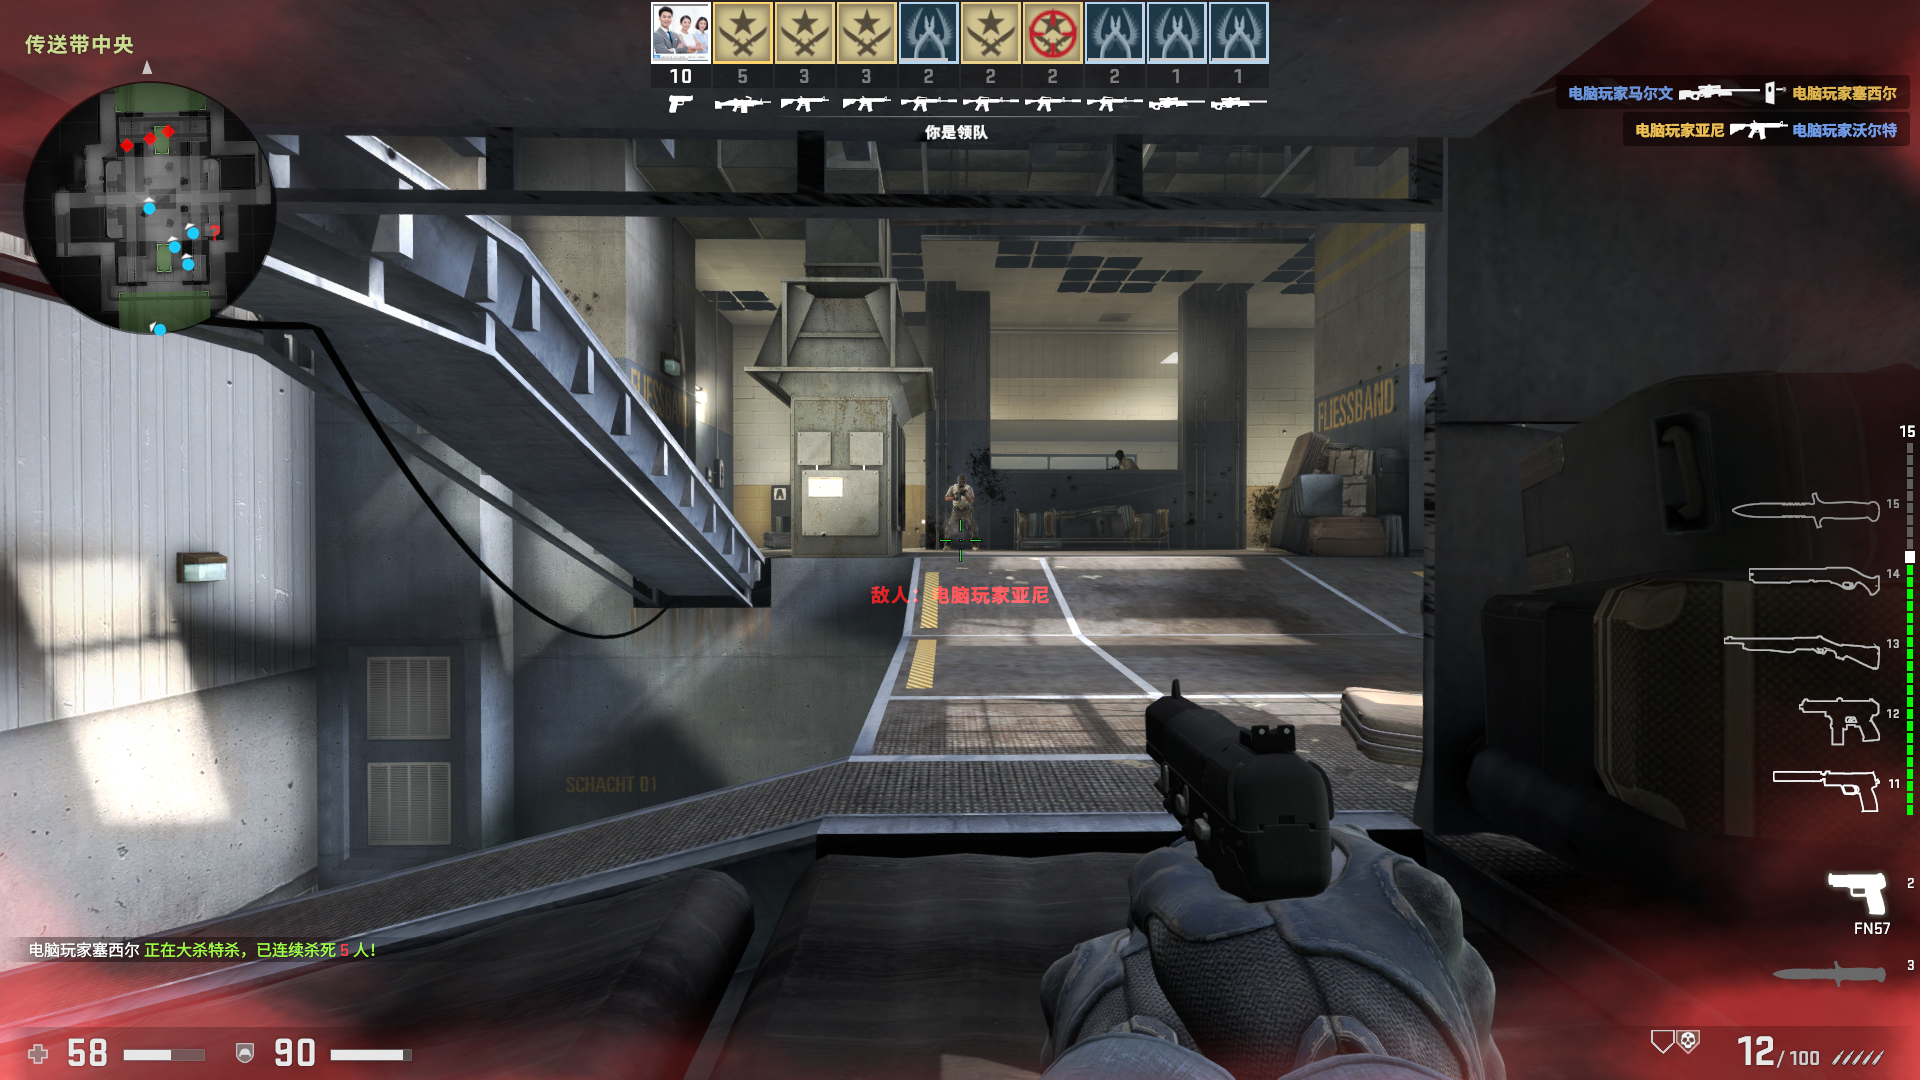person: (939, 469, 977, 558)
